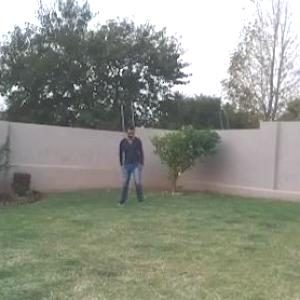follow: (116, 119, 146, 210)
